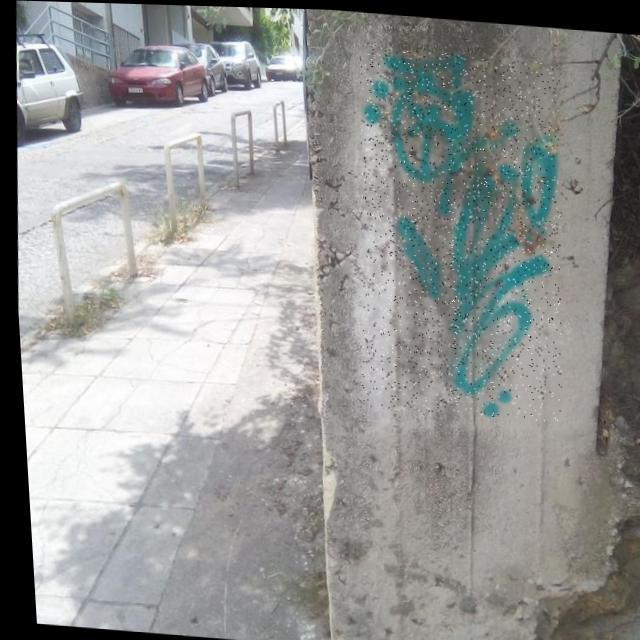-: (341, 43, 576, 420)
